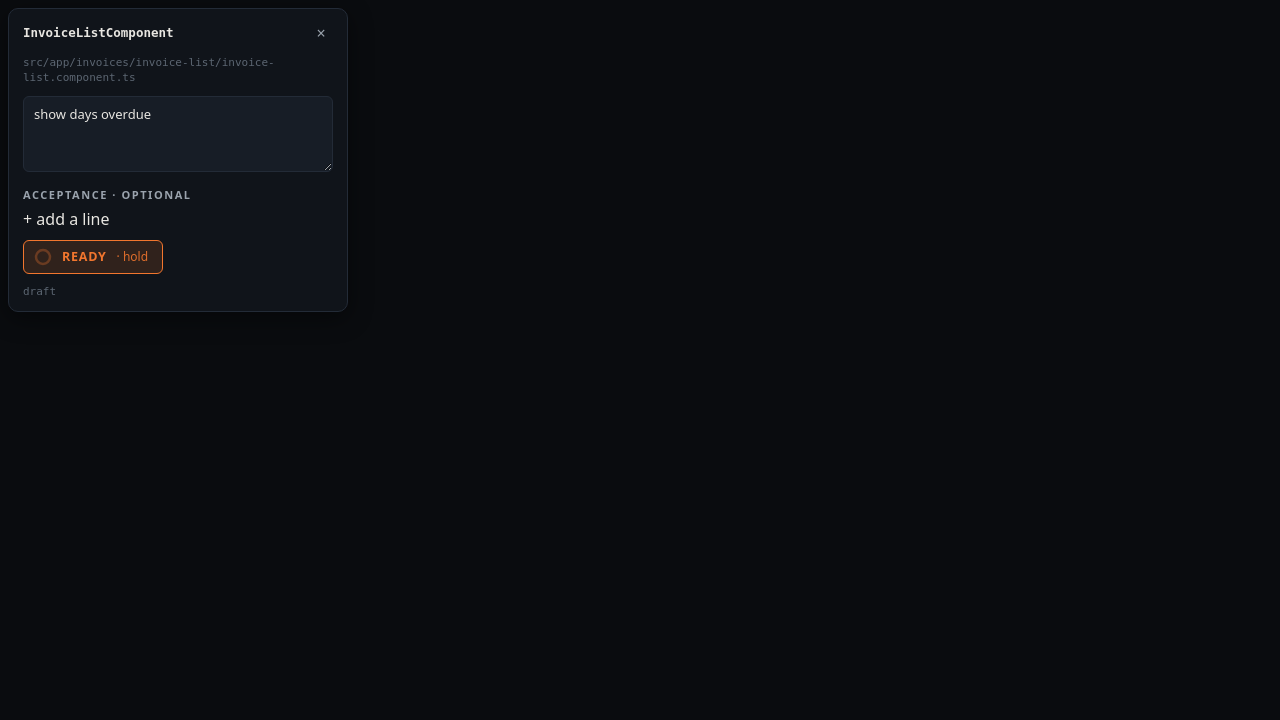
Test case: PromptCard — retest #58: the hold sends what the card knows at 800 ms, not at the first keystroke › a tap is still a tap: it cancels in words and sends nothing, however many times the card re-rendered first
The image size is (1280, 720).
Press the mouse on the button "Ready · hold" at (93, 257), box [23, 240, 163, 274]
Wait 2240 ms
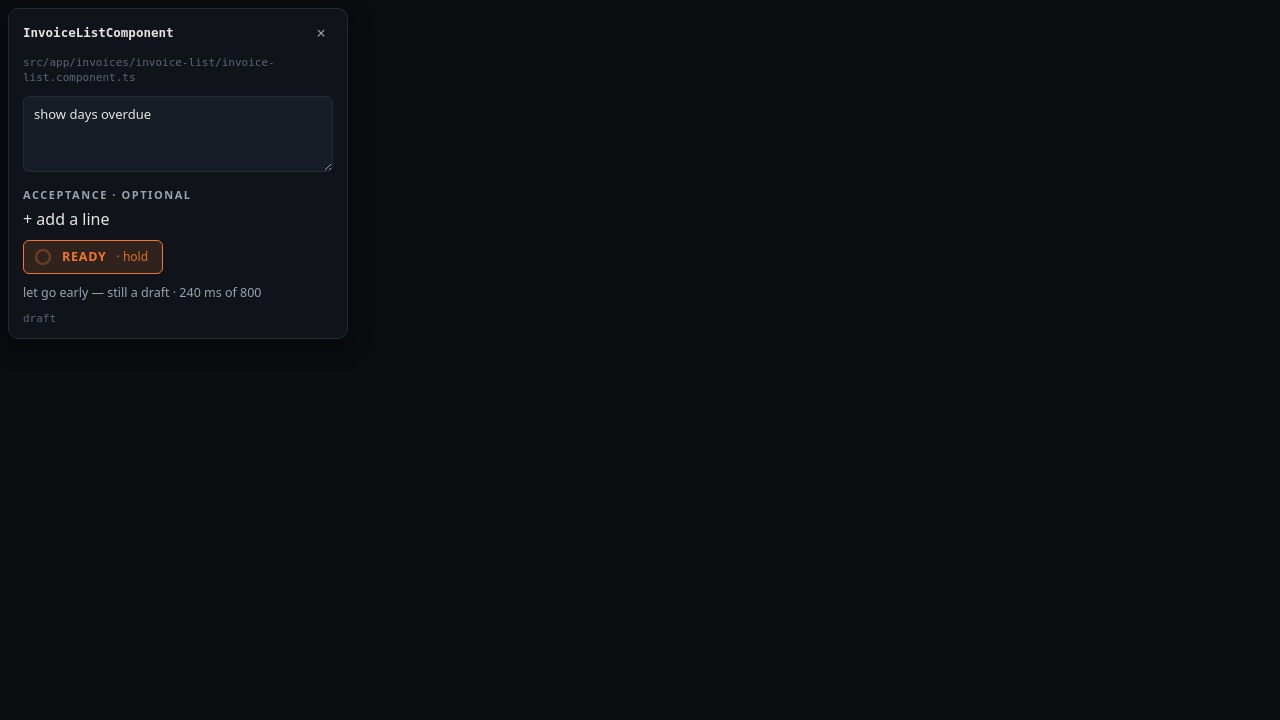
Now the text "let go early — still a draft · 240 ms of 800" is shown, box [23, 284, 262, 301]
